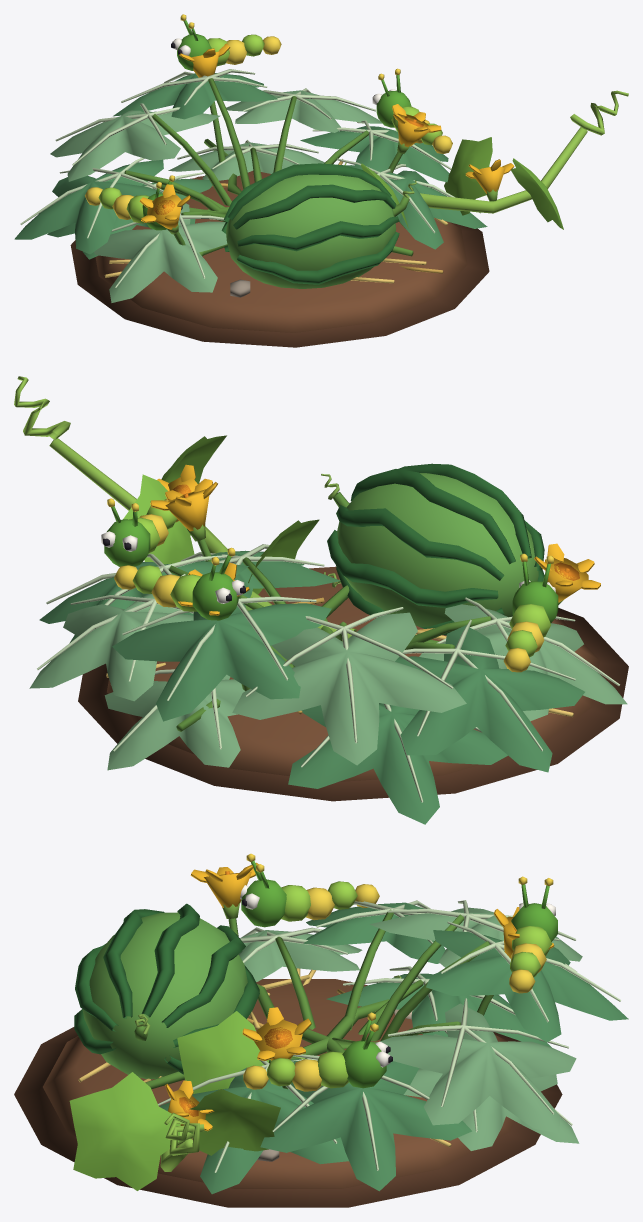
File: watermelon.glb
The picture shows the model from 3 angles, top to bottom: view 1: azimuth 30°, elevation 25°; view 2: azimuth 150°, elevation 25°; view 3: azimuth 270°, elevation 25°; orthographic projection. The views are drawn at different scales.
Visible parts, largest first — view 1: VN_mound_soil, VN_fruit_1_melon_rind, VN_mound_rim, VN_fruit_1, VN_leaf_6_blade, VN_leaf_5_blade, VN_leaf_4_blade, VN_shoot, VN_pests, VN_leaf_3_blade, VN_leaf_1_blade, VN_leaf_2_blade (+18 smaller); view 2: VN_fruit_1_melon_rind, VN_leaf_4_blade, VN_leaf_3_blade, VN_mound_rim, VN_leaf_5_blade, VN_fruit_1, VN_mound_soil, VN_leaf_9_blade, VN_leaf_2_blade, VN_leaf_8_blade, VN_pests, VN_leaf_6_blade (+13 smaller); view 3: VN_shoot, VN_mound_soil, VN_fruit_1_melon_rind, VN_mound_rim, VN_leaf_2_blade, VN_leaf_1_blade, VN_fruit_1, VN_leaf_3_blade, VN_pests, VN_leaf_7_blade, VN_leaf_9_blade, VN_leaf_5_blade (+18 smaller).
Part boxes in pixels (bbox=[...]): VN_mound_soil: bbox=[95, 171, 467, 332]; VN_fruit_1_melon_rind: bbox=[226, 174, 396, 288]; VN_mound_rim: bbox=[70, 178, 489, 347]; VN_fruit_1: bbox=[221, 163, 399, 284]; VN_leaf_6_blade: bbox=[94, 203, 227, 302]; VN_leaf_5_blade: bbox=[14, 159, 163, 254]; VN_leaf_4_blade: bbox=[50, 110, 220, 181]; VN_shoot: bbox=[361, 137, 563, 229]; VN_pests: bbox=[85, 34, 452, 223]; VN_leaf_3_blade: bbox=[113, 73, 277, 119]; VN_leaf_1_blade: bbox=[300, 126, 449, 182]; VN_leaf_2_blade: bbox=[226, 90, 382, 132]; VN_fruit_1_melon_rind: bbox=[337, 473, 538, 626]; VN_leaf_4_blade: bbox=[232, 612, 466, 765]; VN_leaf_3_blade: bbox=[112, 603, 331, 721]; VN_mound_rim: bbox=[78, 608, 628, 801]; VN_leaf_5_blade: bbox=[395, 625, 584, 772]; VN_fruit_1: bbox=[327, 463, 544, 635]; VN_mound_soil: bbox=[107, 566, 599, 781]; VN_leaf_9_blade: bbox=[288, 703, 507, 824]; VN_leaf_2_blade: bbox=[29, 593, 193, 701]; VN_leaf_8_blade: bbox=[104, 674, 244, 770]; VN_pests: bbox=[114, 499, 550, 672]; VN_leaf_6_blade: bbox=[419, 604, 627, 721]; VN_shoot: bbox=[69, 1011, 280, 1190]; VN_mound_soil: bbox=[43, 979, 514, 1188]; VN_fruit_1_melon_rind: bbox=[82, 912, 247, 1079]; VN_mound_rim: bbox=[14, 981, 562, 1207]; VN_leaf_2_blade: bbox=[380, 1003, 576, 1133]; VN_leaf_1_blade: bbox=[260, 1059, 471, 1191]; VN_fruit_1: bbox=[74, 903, 259, 1074]; VN_leaf_3_blade: bbox=[426, 930, 628, 1042]; VN_pests: bbox=[243, 881, 552, 1091]; VN_leaf_7_blade: bbox=[159, 1067, 348, 1194]; VN_leaf_9_blade: bbox=[326, 973, 551, 1047]; VN_leaf_5_blade: bbox=[303, 902, 445, 963].
Bounding box in the file's own units: 0.9297 × 0.3407 × 0.7512.
